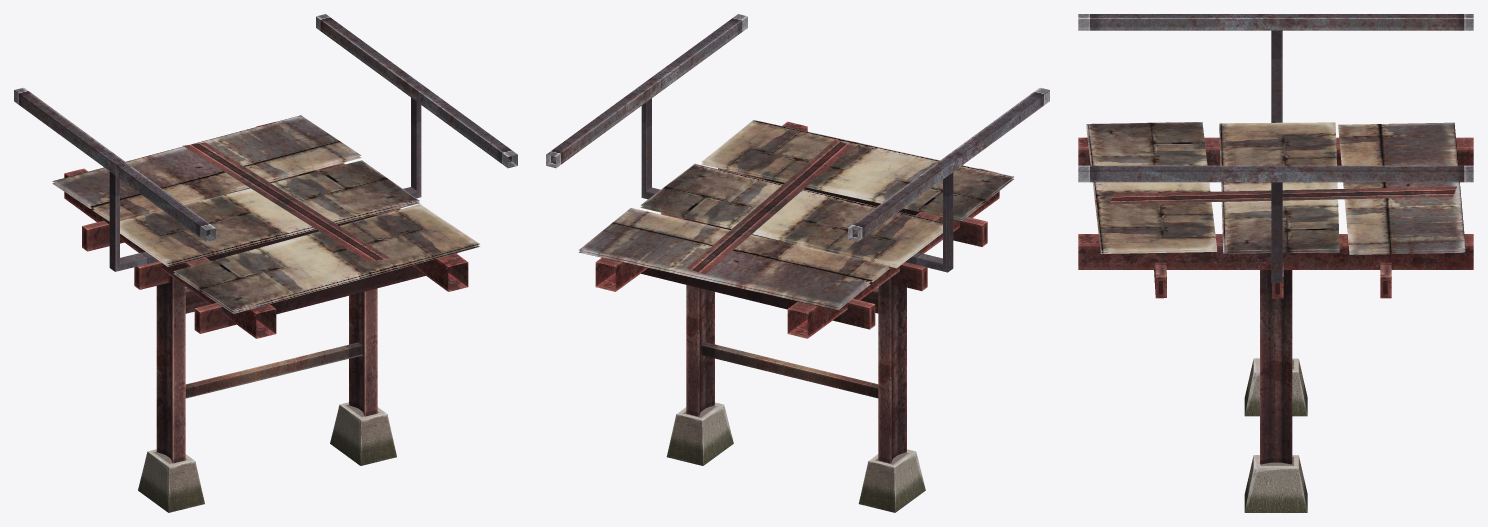
The model's file is metal_bridge_middle.fbx.
3 views of the same model, side by side, from view 1: azimuth 30°, elevation 25°; view 2: azimuth 150°, elevation 25°; view 3: azimuth 270°, elevation 25° (orthographic). The views are drawn at different scales.
Visible parts, largest first — view 1: metal_bridge_middle; view 2: metal_bridge_middle; view 3: metal_bridge_middle.
Part boxes in pixels (x1=…): metal_bridge_middle: x1=14, y1=14, x2=517, y2=512; metal_bridge_middle: x1=546, y1=14, x2=1049, y2=512; metal_bridge_middle: x1=1078, y1=14, x2=1473, y2=512.
Size of the model in its own units: 2.99 by 3.23 by 3.2.
